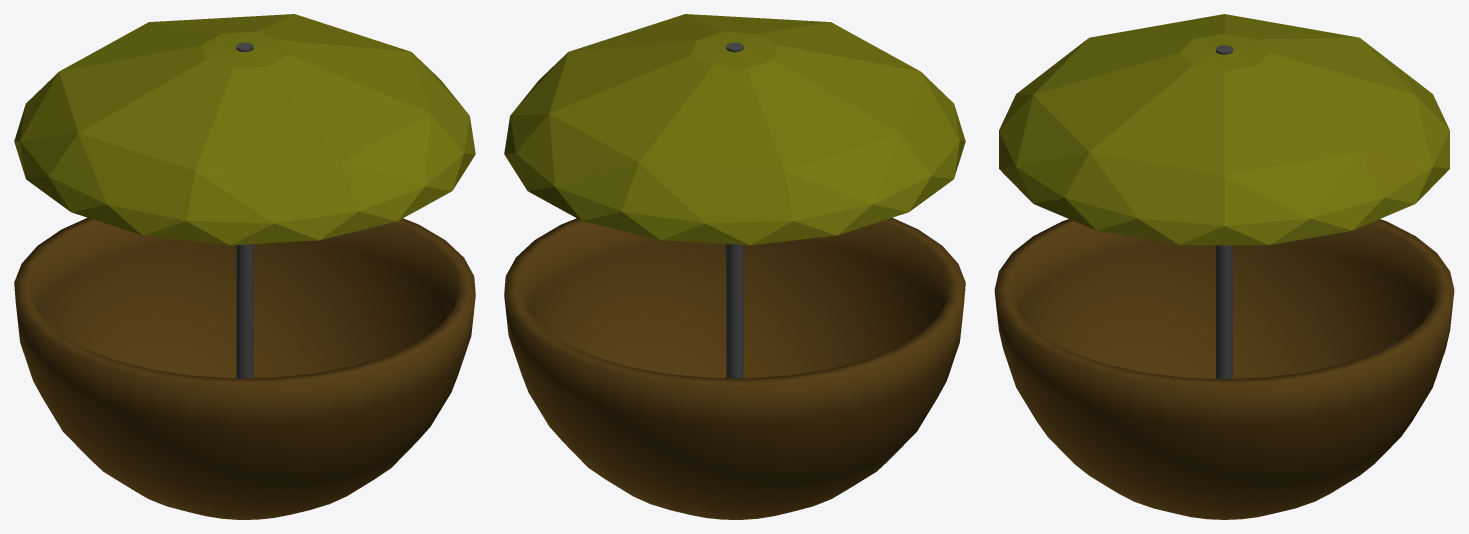
Rendered from coconut_boat.fbx.
3 renders of one model, left to right at view 1: azimuth 30°, elevation 25°; view 2: azimuth 150°, elevation 25°; view 3: azimuth 270°, elevation 25°, orthographic.
Parts seen in each view (by area): view 1: Sphere, Sphere.001, Cylinder; view 2: Sphere, Sphere.001, Cylinder; view 3: Sphere, Sphere.001, Cylinder.
Part boxes in pixels (<box>): Sphere: <box>14,217,475,519</box>; Sphere.001: <box>14,14,475,245</box>; Cylinder: <box>236,42,253,378</box>; Sphere: <box>504,217,965,519</box>; Sphere.001: <box>504,14,965,245</box>; Cylinder: <box>726,42,743,378</box>; Sphere: <box>994,219,1454,519</box>; Sphere.001: <box>999,14,1449,245</box>; Cylinder: <box>1216,45,1232,379</box>.
Bounding box in the file's own units: 200 × 216 × 200.
